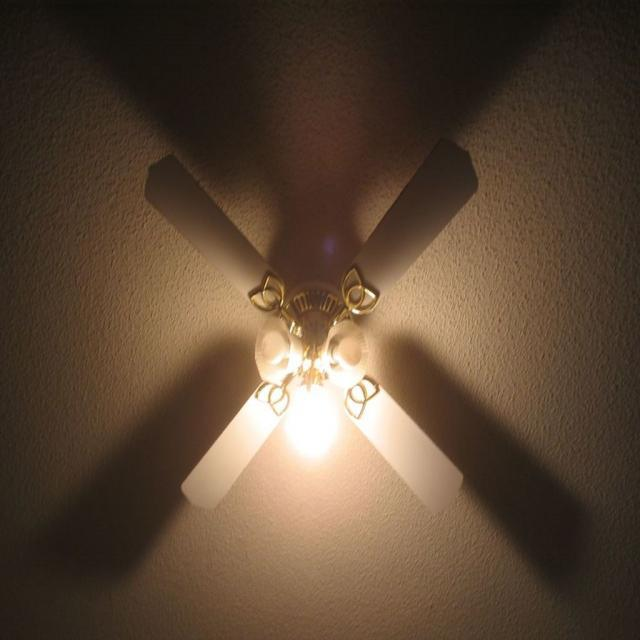fan_off: (141, 148, 484, 510)
